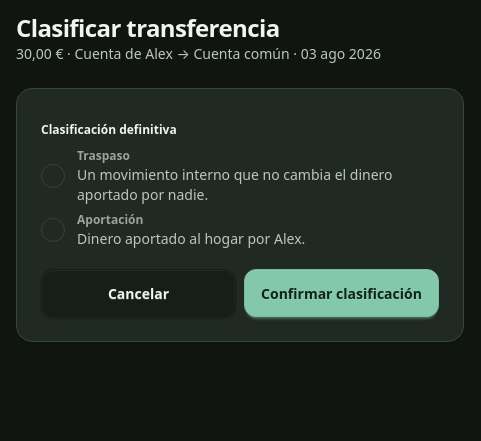
Test: ClassifyPage › confirms the attributed member when contribution is chosen
Step 1. Click the radio button labelled "Aportación Dinero aportado al hogar por Alex." → (53,230), box [41,218,65,242]
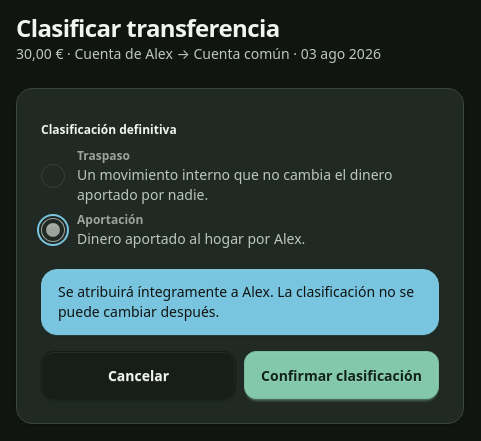
Expected: the text "Se atribuirá íntegramente a Alex" is shown, [58,282,414,321]
